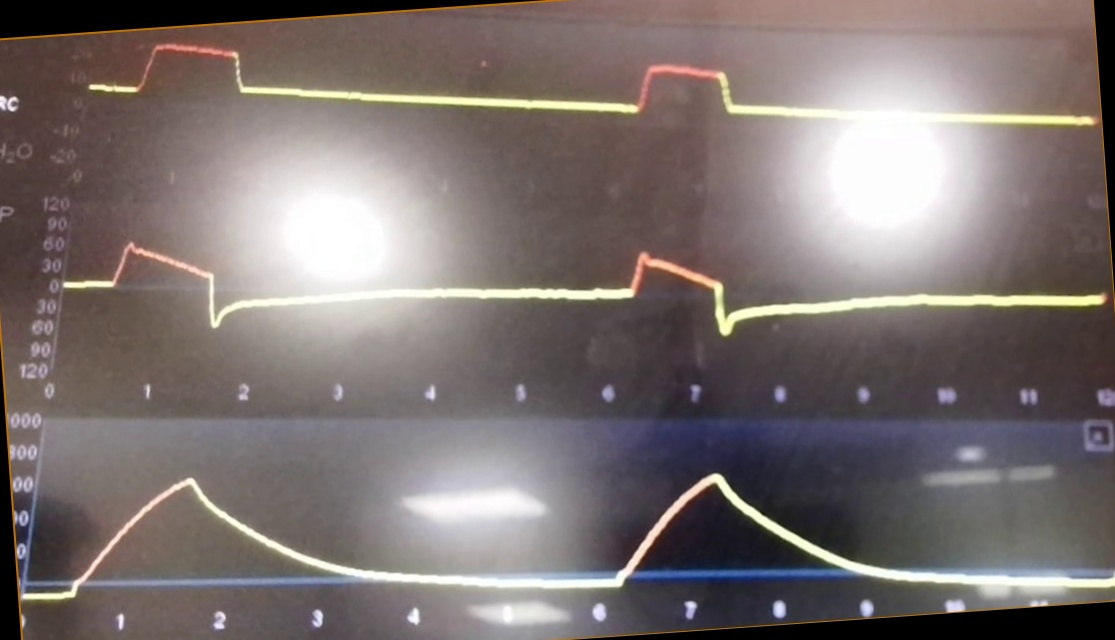Normal Flow: (67, 197, 1099, 371)
Normal Volume: (29, 461, 1115, 603)
